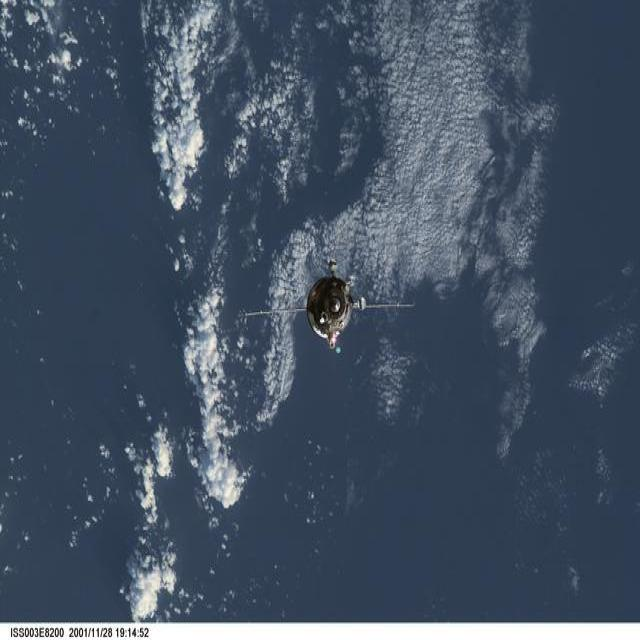medium_debris: (244, 260, 414, 349)
